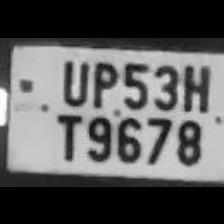3: (150, 60, 180, 108)
5: (118, 56, 150, 107)
6: (112, 112, 144, 164)
7: (141, 110, 170, 164)
8: (172, 114, 204, 166)
9: (80, 110, 111, 160)
H: (178, 60, 214, 113)
P: (88, 56, 118, 107)
T: (48, 108, 82, 160)
U: (56, 55, 88, 104)
